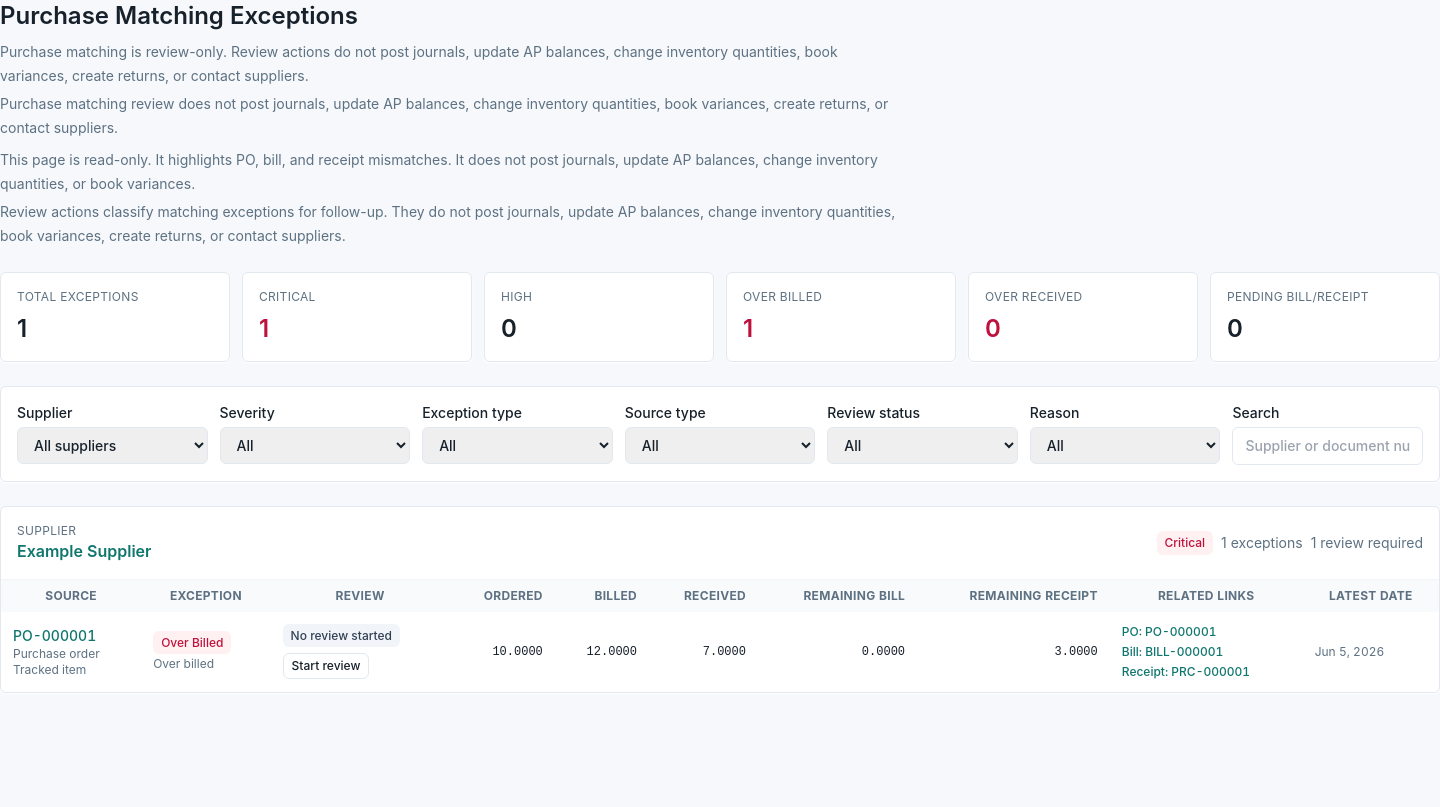
Test: PurchaseMatchingExceptionsPage › starts a review when the user has matching management permission
The image size is (1440, 807).
Click the button "Start review". click: [326, 666]
box: [283,653,369,679]
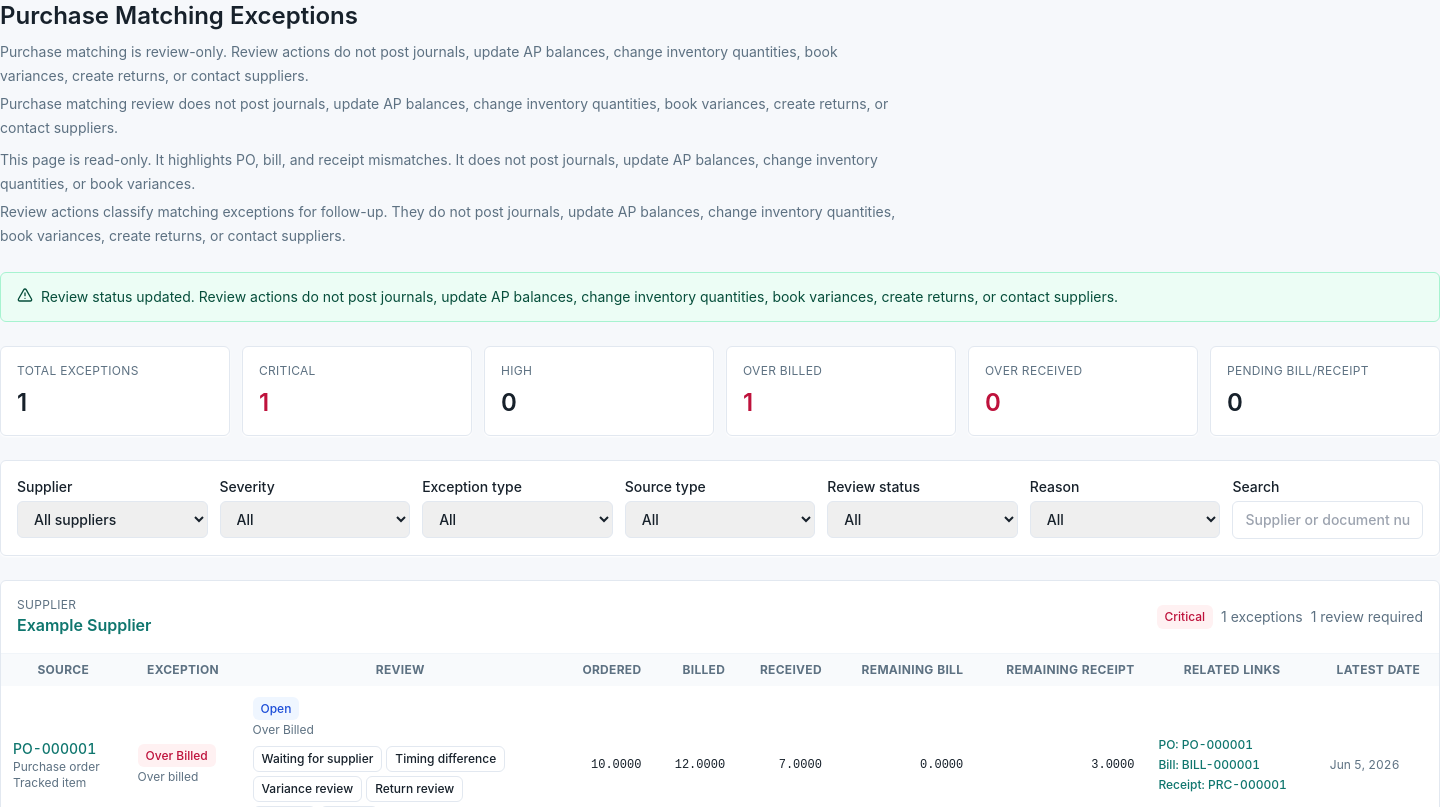
Expected: the text "post journals, update AP balances, change inventory quantities, book variances, create returns, or contact suppliers" is shown, [0,43,838,84]
Expected: the text "Review status updated" is shown, [41,288,1118,305]
